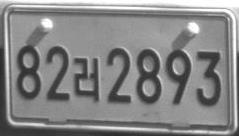2: (106, 46, 132, 103), (45, 44, 70, 101)
3: (196, 50, 222, 106)
8: (136, 47, 162, 104), (16, 44, 41, 100)
9: (165, 48, 192, 104)
러: (74, 56, 99, 101)
